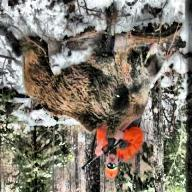boar: (12, 10, 174, 133)
